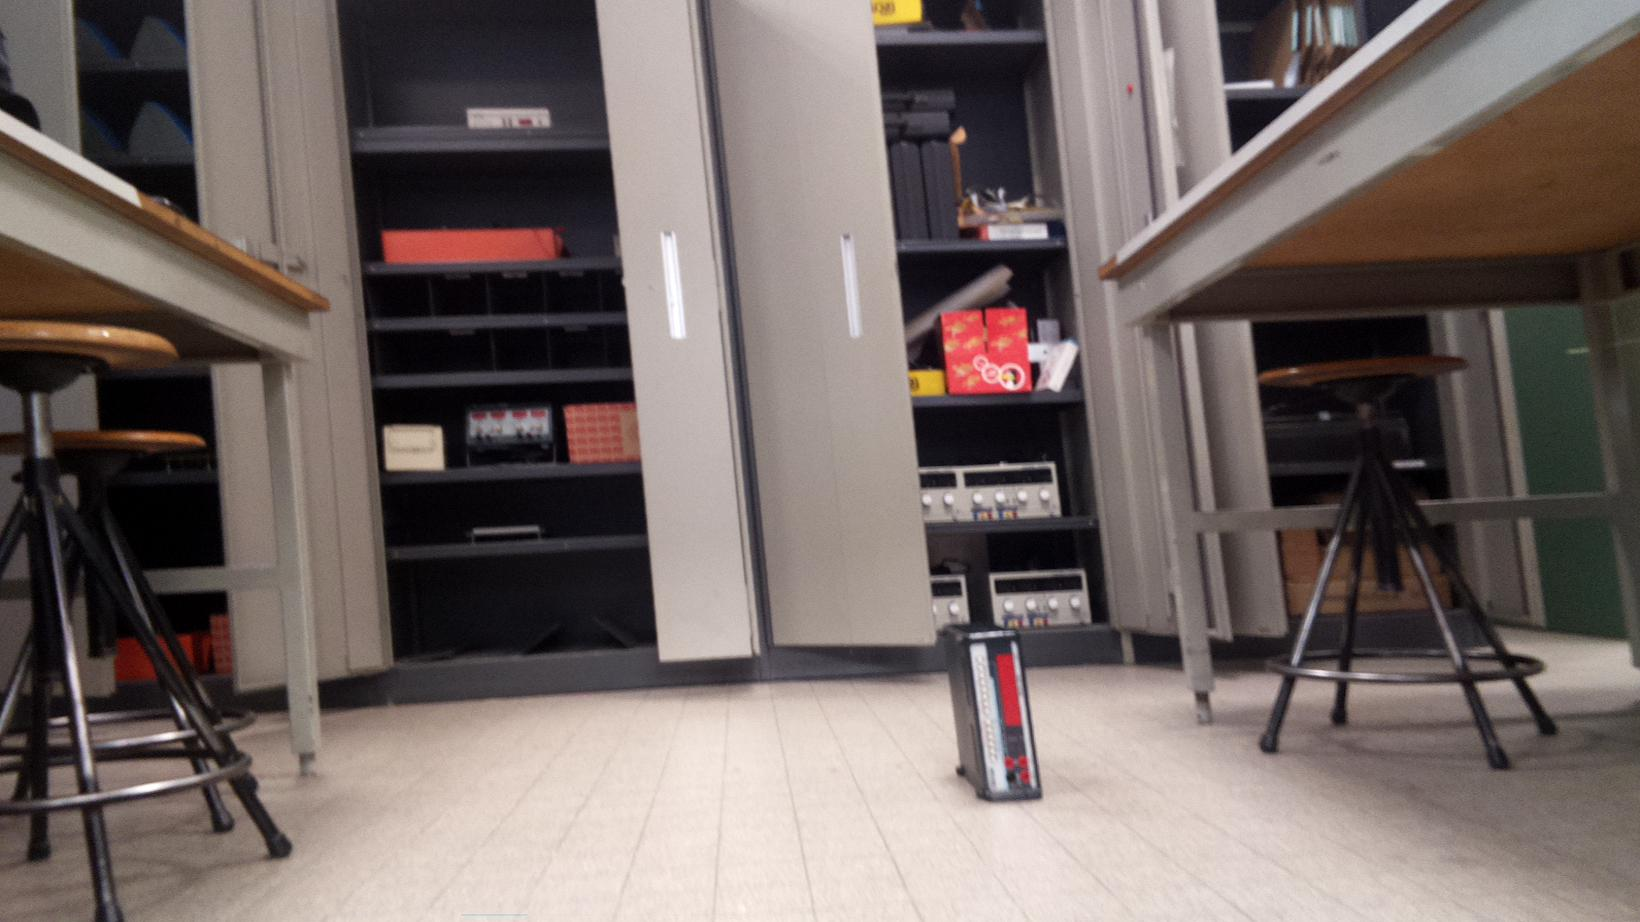medium: (937, 614, 1046, 811)
